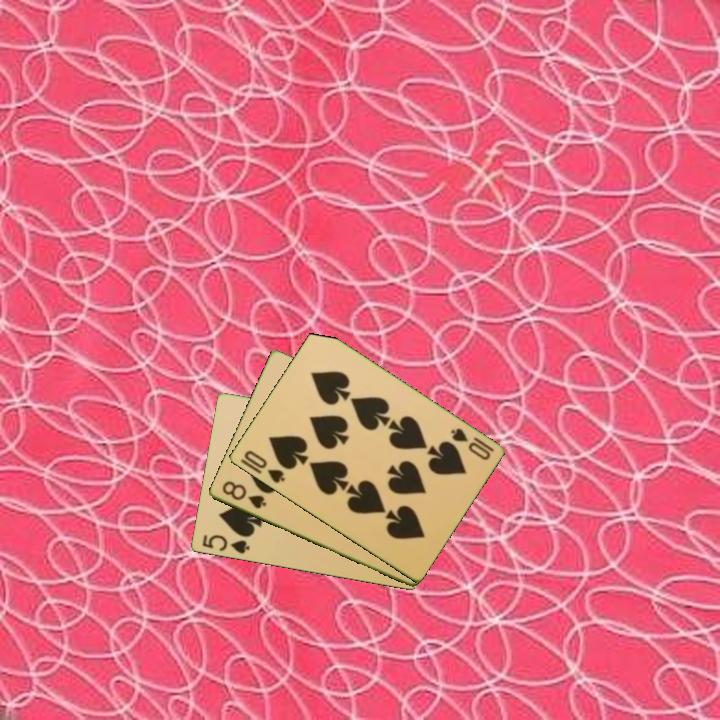10s: (447, 424, 497, 463), (240, 447, 288, 486)
5s: (198, 531, 252, 557)
8s: (218, 477, 269, 512)
